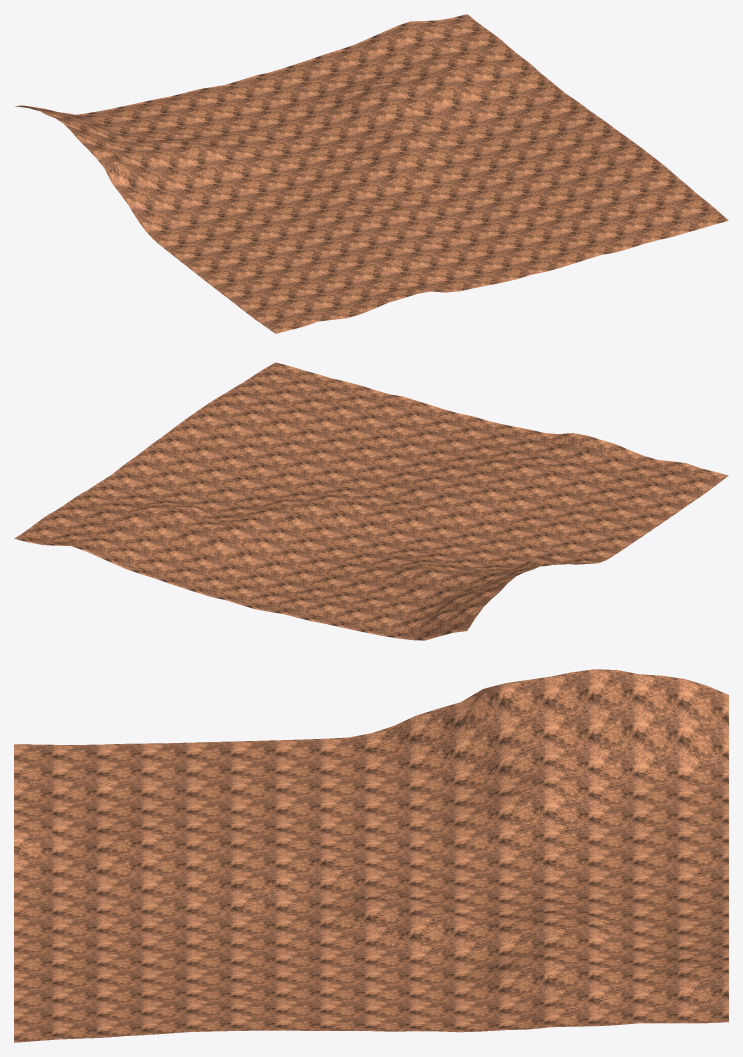
Rendered from terrain_08_06.dae.
3 renders of one model, top to bottom at view 1: azimuth 30°, elevation 25°; view 2: azimuth 150°, elevation 25°; view 3: azimuth 270°, elevation 25°, orthographic. The views are drawn at different scales.
Visible parts, largest first — view 1: terrain_08_06-node; view 2: terrain_08_06-node; view 3: terrain_08_06-node.
Part boxes in pixels (x1,y1,x2,y2): terrain_08_06-node: [15, 14, 728, 333]; terrain_08_06-node: [14, 362, 728, 640]; terrain_08_06-node: [14, 669, 728, 1042].
Bounding box in the file's own units: 128 × 128 × 15.96.
1 material, 1 textured.
